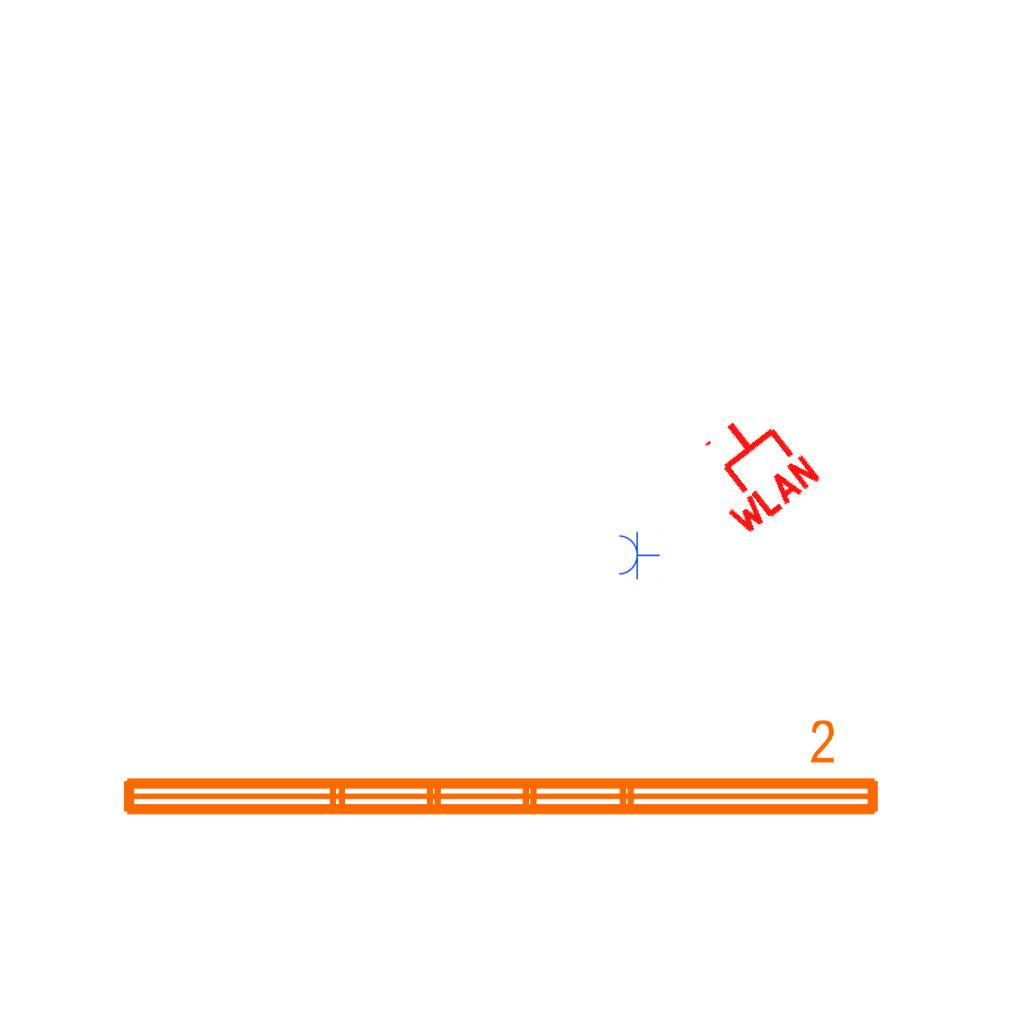Ambulanz_Pendelleuchte_LED: (113, 715, 887, 827)
Schukosteckdose_einfach: (617, 530, 660, 580)
WLAN: (679, 394, 826, 542)
